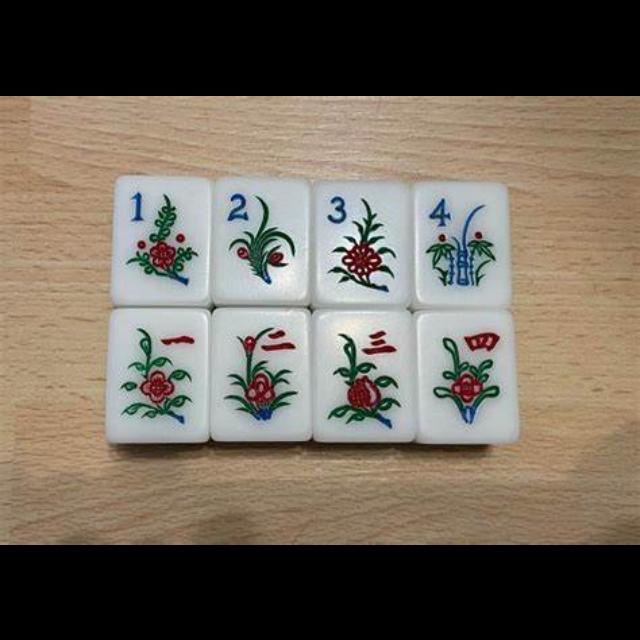f1-s: (115, 176, 208, 302)
f2-s: (213, 179, 307, 299)
f3-s: (314, 180, 408, 302)
f4-s: (414, 182, 508, 302)
s1-s: (110, 311, 208, 439)
s2-s: (215, 309, 309, 437)
s3-s: (315, 312, 413, 438)
s4-s: (418, 314, 518, 438)
